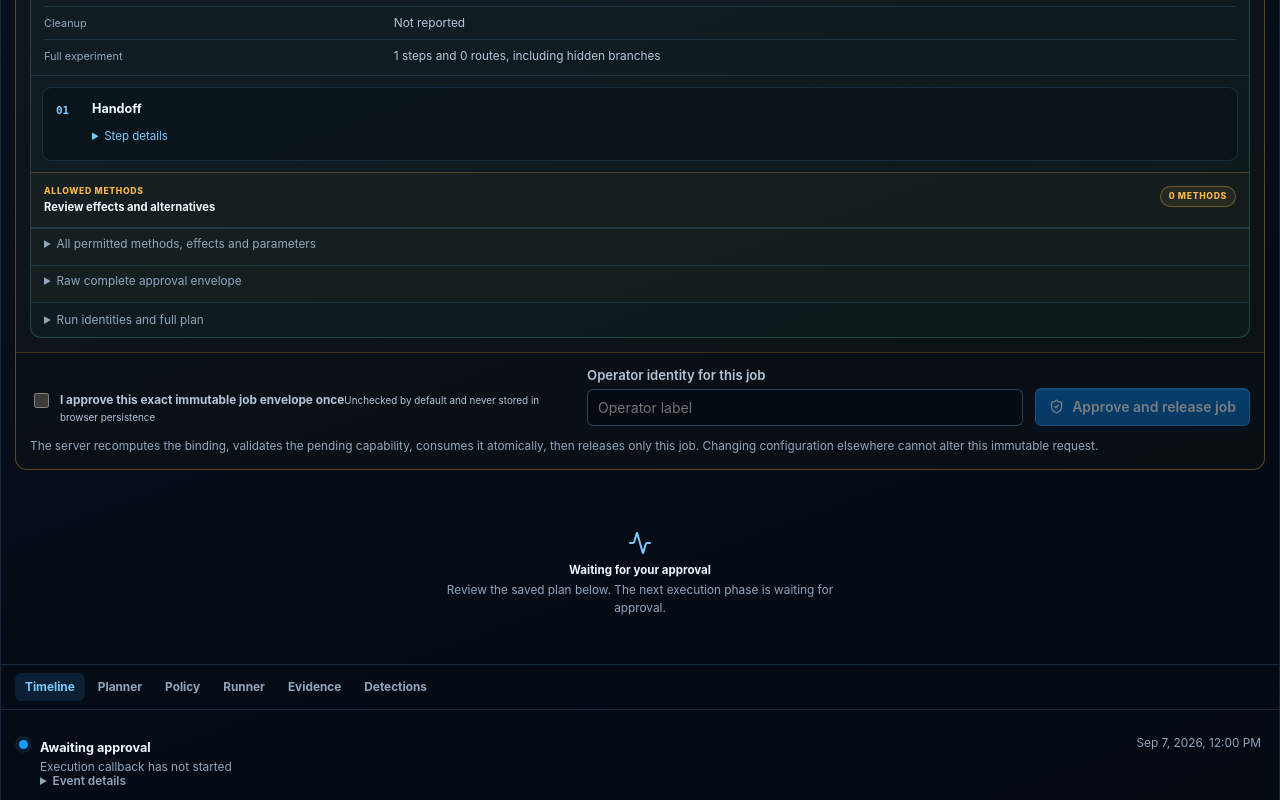
Test: reviews and releases the exact baseline phase inline without new intent or navigation
(page scrolled)
Check: the button "Approve and release job" is disabled, box 1035,388 -> 1250,426
Click the checkbox labelled "I approve this exact immutable job envelope once". click: (42, 401)
box: 34,393 -> 49,408
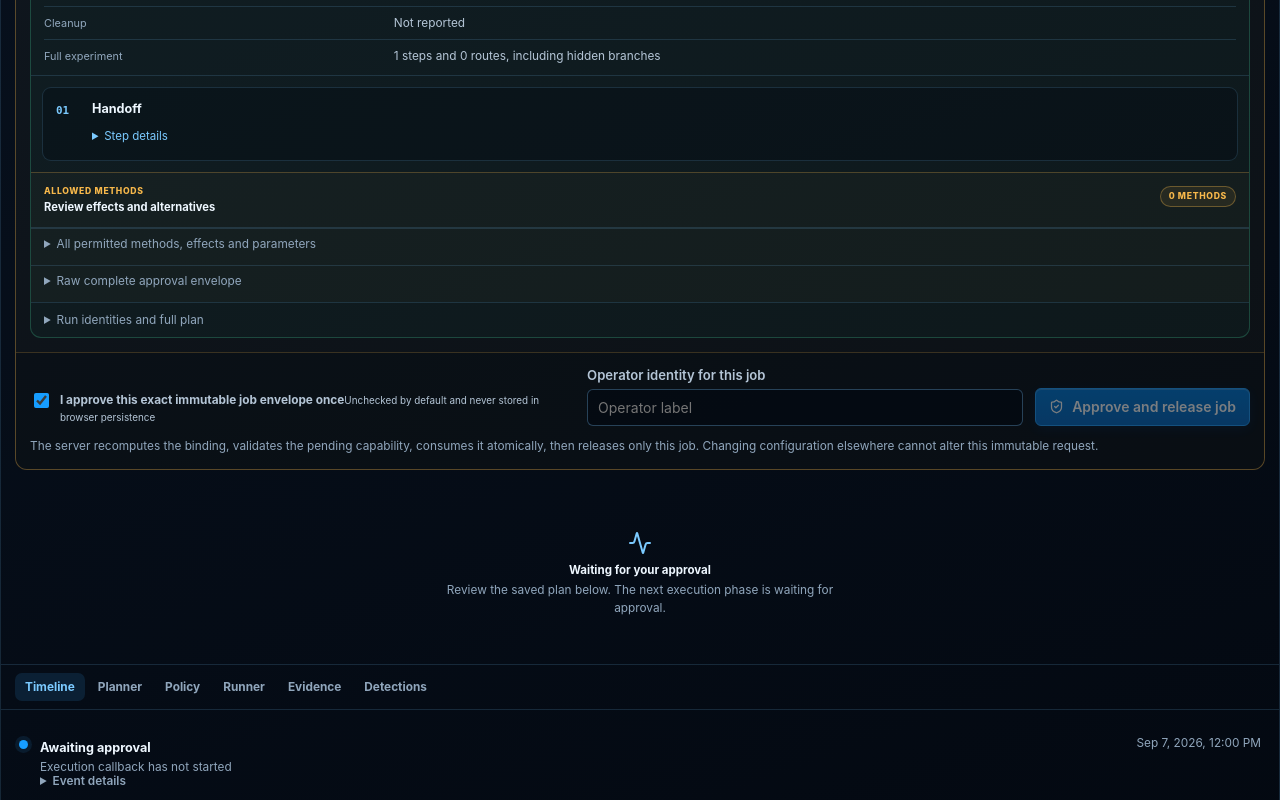
Type "Reviewer" into the field labelled "Operator identity for this job". click: (805, 407)
box: 587,389 -> 1023,426
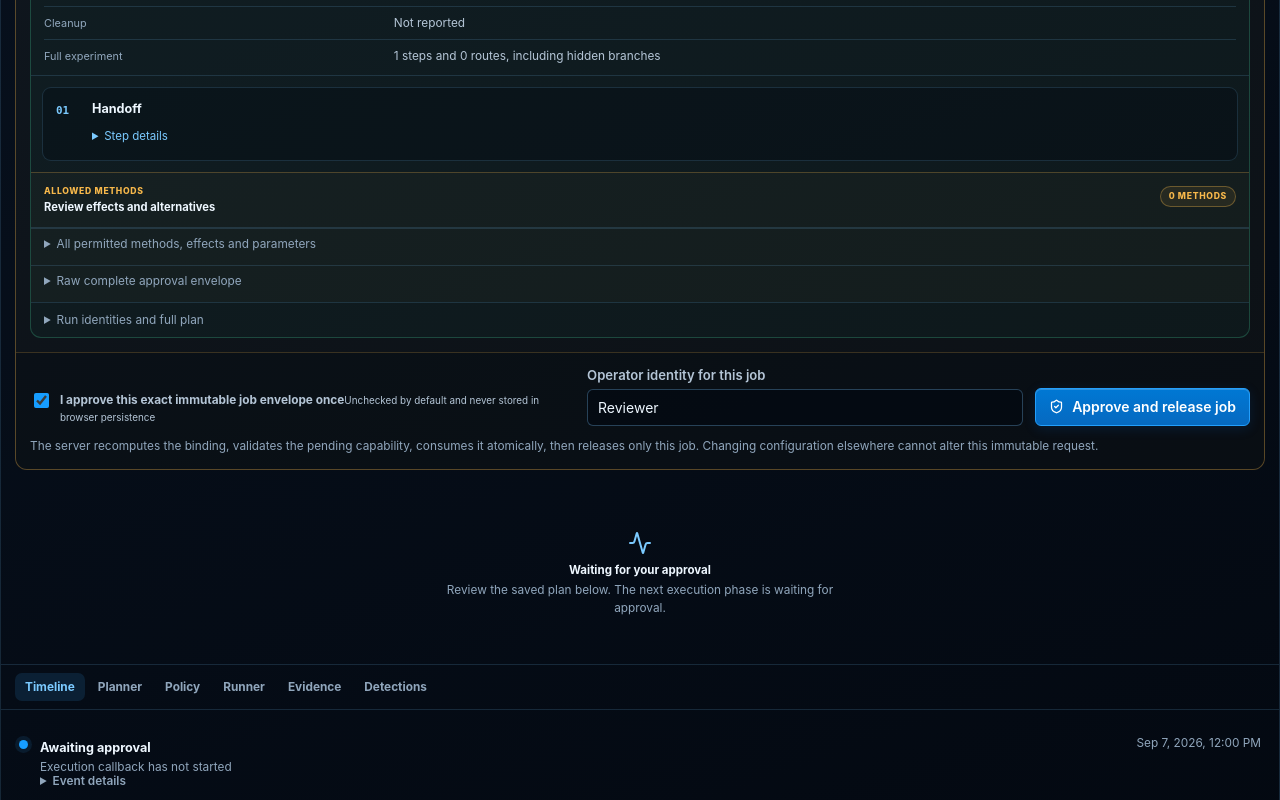
Click the button "Approve and release job". click: (1143, 407)
box: 1035,388 -> 1250,426
(page scrolled)
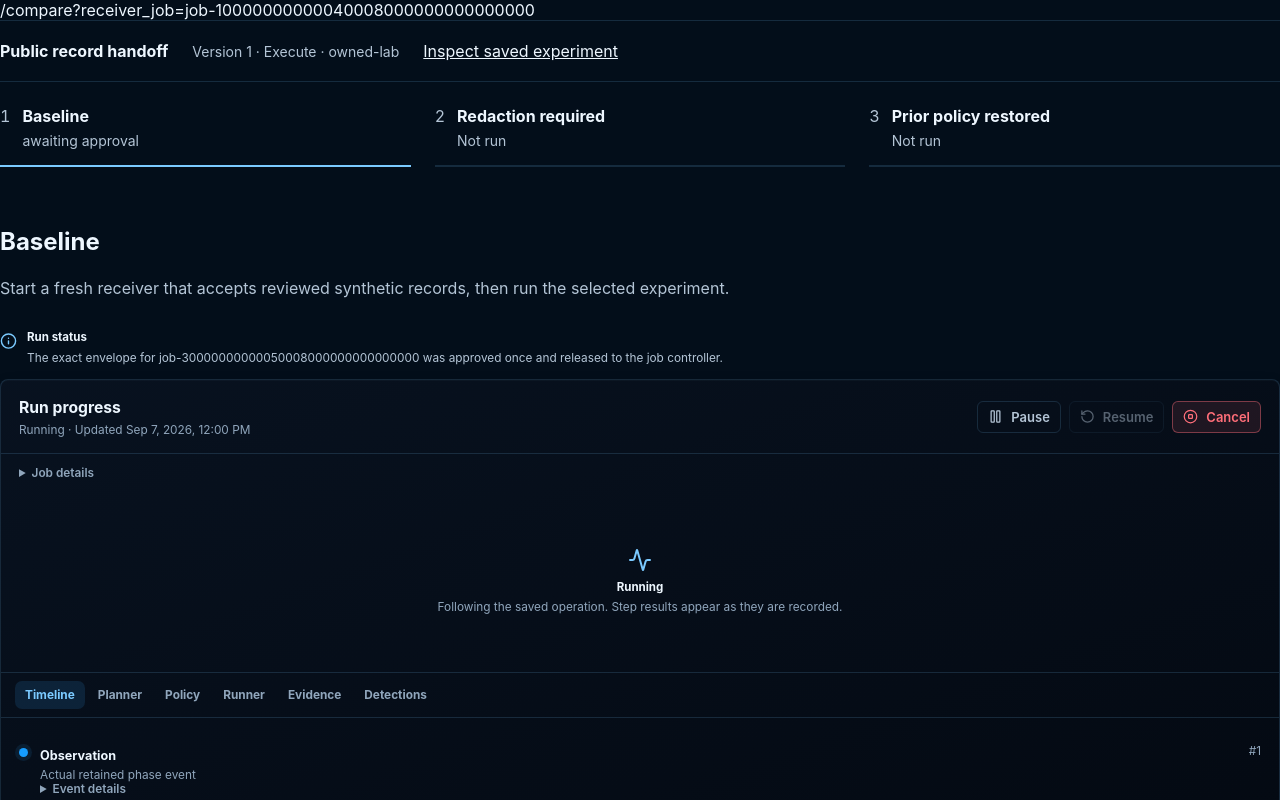
Check: the text "Actual retained phase event" is shown, box 40,768 -> 196,782
Check: the button "Pause" is enabled, box 977,401 -> 1061,433
